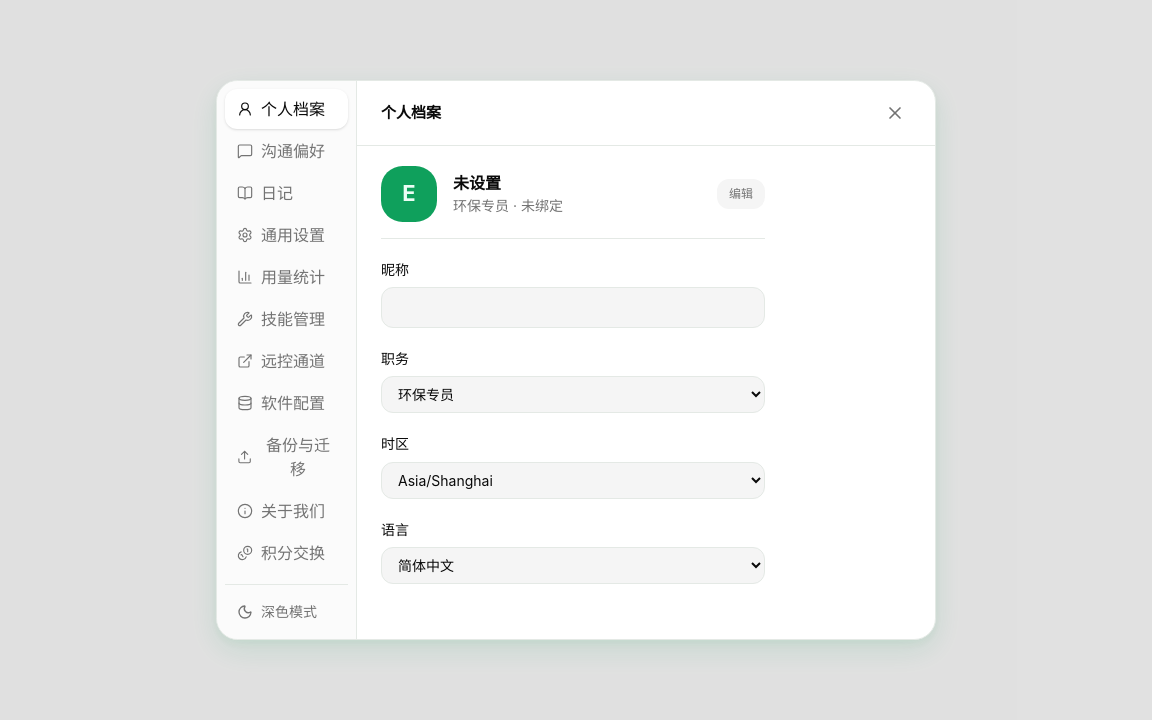
Test: UserPanel › navigation / menu items › switches content tab when a nav button is clicked
Click the button "沟通偏好" at (286, 151), box [225,131,348,171]
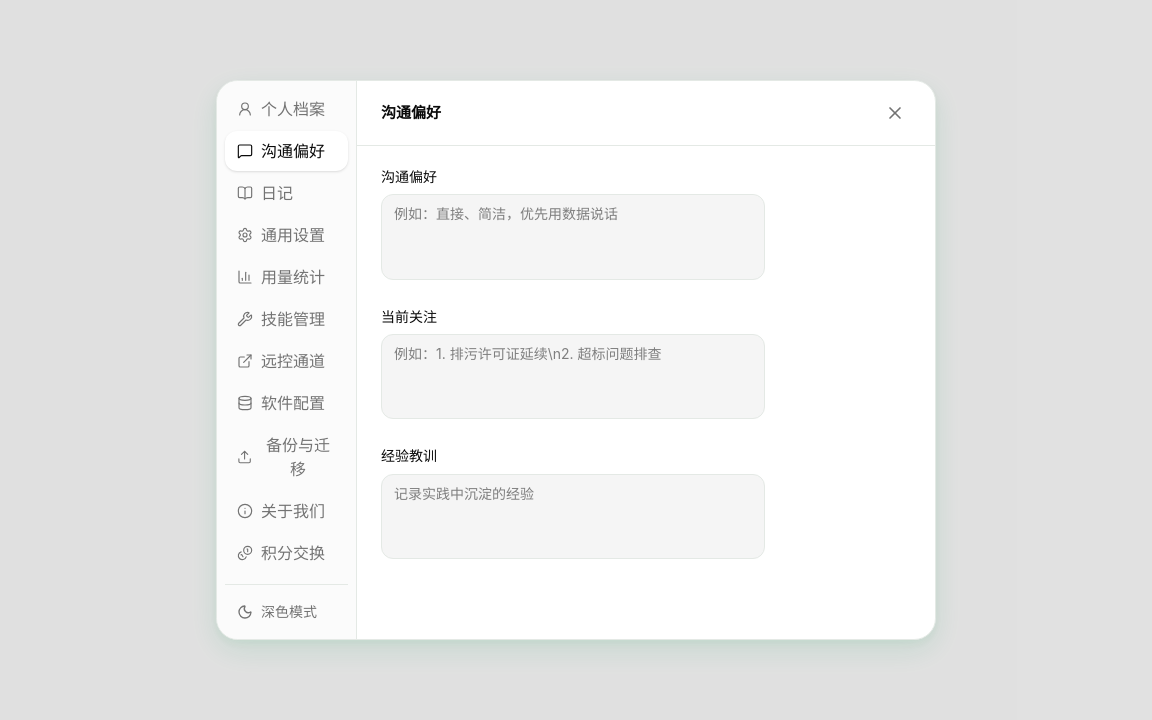
Result: the text box with placeholder "例如：直接、简洁，优先用数据说话" is shown at [381,194,765,280]
